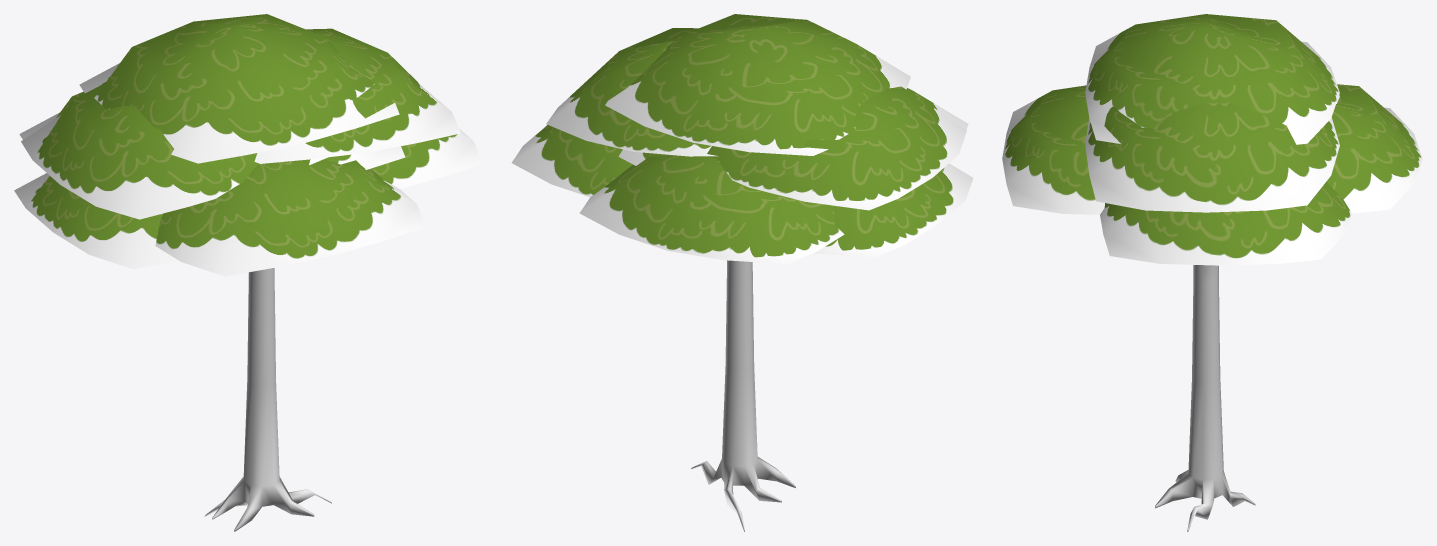
File: tree 2.FBX
The picture shows the model from 3 angles, left to right: view 1: azimuth 30°, elevation 25°; view 2: azimuth 150°, elevation 25°; view 3: azimuth 270°, elevation 25°; orthographic projection. The views are drawn at different scales.
Visible parts, largest first — view 1: Plane013, Plane015, Plane012, Plane011, T2, Plane008, Plane009, Plane010; view 2: Plane013, Plane014, Plane012, T2, Plane011, Plane008, Plane009; view 3: Plane013, Plane011, Plane009, Plane015, Plane014, T2.
Part boxes in pixels (x1,y1,x2,y2): Plane013: [79, 14, 399, 163]; Plane015: [155, 159, 425, 276]; Plane012: [21, 83, 327, 219]; Plane011: [254, 28, 460, 163]; T2: [204, 268, 331, 531]; Plane008: [14, 173, 179, 269]; Plane009: [371, 128, 482, 189]; Plane010: [302, 146, 405, 169]; Plane013: [605, 14, 910, 155]; Plane014: [579, 154, 844, 263]; Plane012: [707, 86, 966, 210]; T2: [691, 260, 795, 531]; Plane011: [546, 28, 717, 156]; Plane008: [813, 163, 973, 257]; Plane009: [511, 124, 632, 197]; Plane013: [1085, 14, 1339, 144]; Plane011: [1085, 102, 1339, 212]; Plane009: [1100, 182, 1351, 265]; Plane015: [1002, 85, 1104, 214]; Plane014: [1326, 84, 1422, 213]; T2: [1155, 265, 1255, 531].
Bounding box in the file's own units: 198 × 239 × 189.
